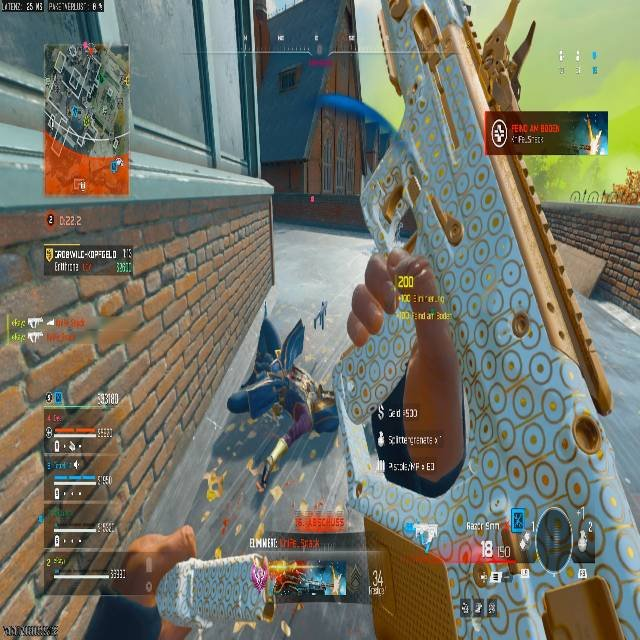player: (124, 196, 637, 640)
